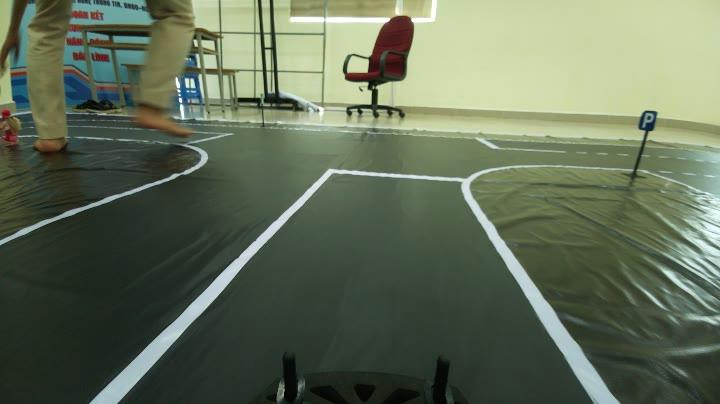parking: (638, 102, 660, 134)
